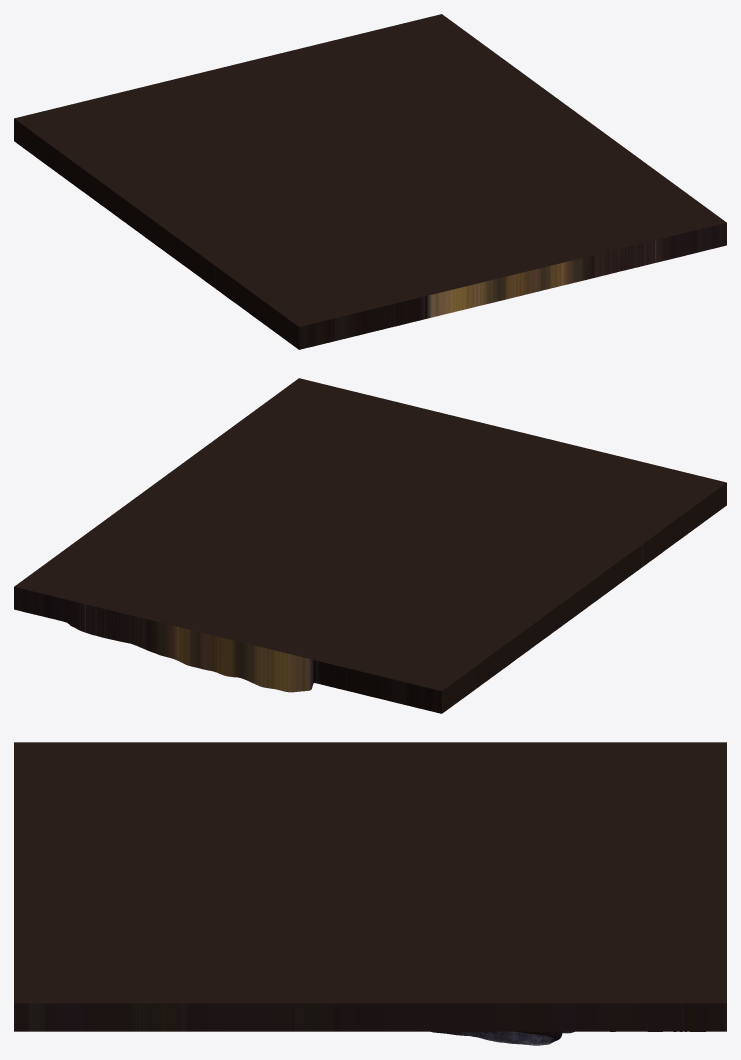
The model's file is girl-with-pearl-earring.glb.
3 renders of one model, top to bottom at view 1: azimuth 30°, elevation 25°; view 2: azimuth 150°, elevation 25°; view 3: azimuth 270°, elevation 25°, orthographic. The views are drawn at different scales.
Parts seen in each view (by area): view 1: Girl with a Pearl Earirng - Johannes Vermeer.stl; view 2: Girl with a Pearl Earirng - Johannes Vermeer.stl; view 3: Girl with a Pearl Earirng - Johannes Vermeer.stl.
Boxes of the visible parts, box(x1,y1,x2,y2) form: Girl with a Pearl Earirng - Johannes Vermeer.stl: box(14, 14, 726, 349); Girl with a Pearl Earirng - Johannes Vermeer.stl: box(14, 378, 726, 713); Girl with a Pearl Earirng - Johannes Vermeer.stl: box(14, 742, 726, 1045).
Bounding box in the file's own units: 100 × 12.1 × 115.
Materials: 1 (1 with a texture image).
